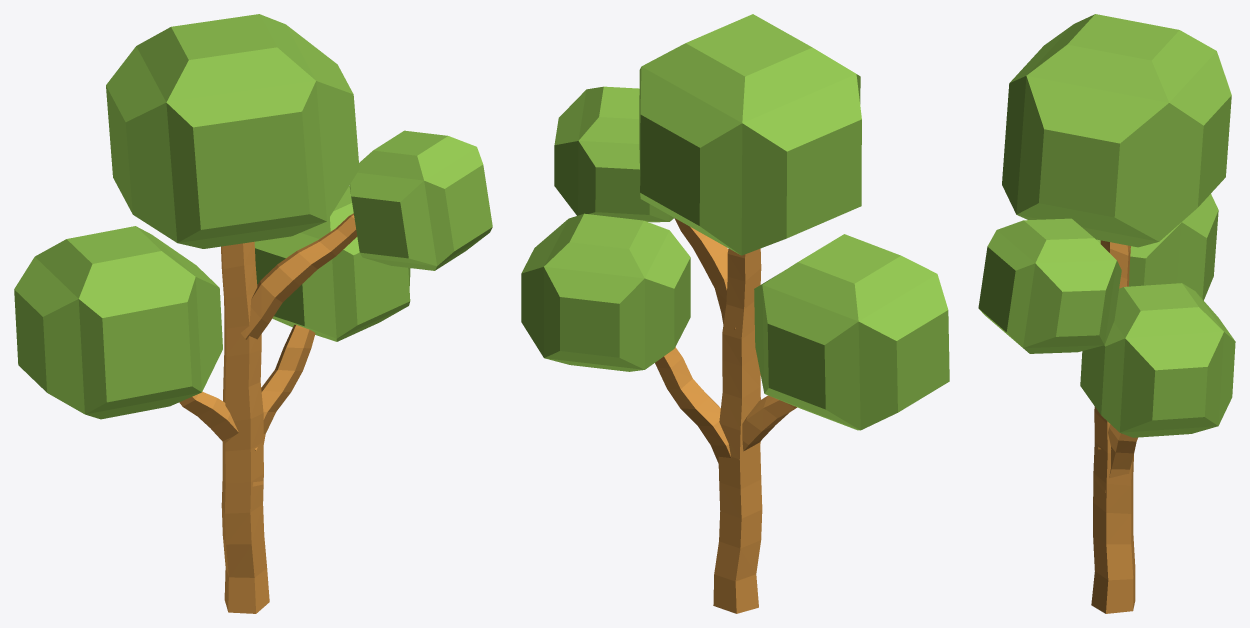
The model's file is tree_02_mesh373735999.glb.
3 views of the same model, side by side, from view 1: azimuth 30°, elevation 25°; view 2: azimuth 150°, elevation 25°; view 3: azimuth 270°, elevation 25° (orthographic).
Parts seen in each view (by area): view 1: part_2_mesh373735999_1, part_1_mesh373735999; view 2: part_2_mesh373735999_1, part_1_mesh373735999; view 3: part_2_mesh373735999_1, part_1_mesh373735999.
Part boxes in pixels (<box>): part_2_mesh373735999_1: <box>14,14,492,419</box>; part_1_mesh373735999: <box>179,213,357,613</box>; part_2_mesh373735999_1: <box>521,14,949,430</box>; part_1_mesh373735999: <box>655,218,796,613</box>; part_2_mesh373735999_1: <box>978,14,1235,437</box>; part_1_mesh373735999: <box>1091,240,1137,613</box>.
Bounding box in the file's own units: 0.3154 × 0.4154 × 0.1711.
